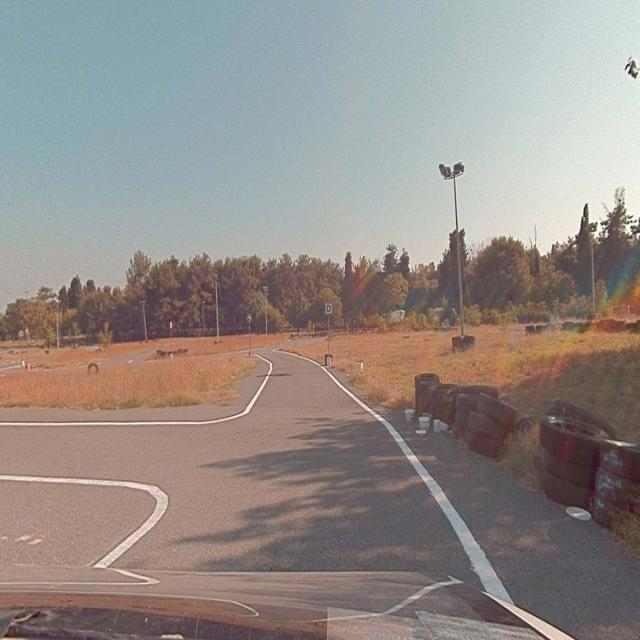durak: (325, 304, 333, 315)
